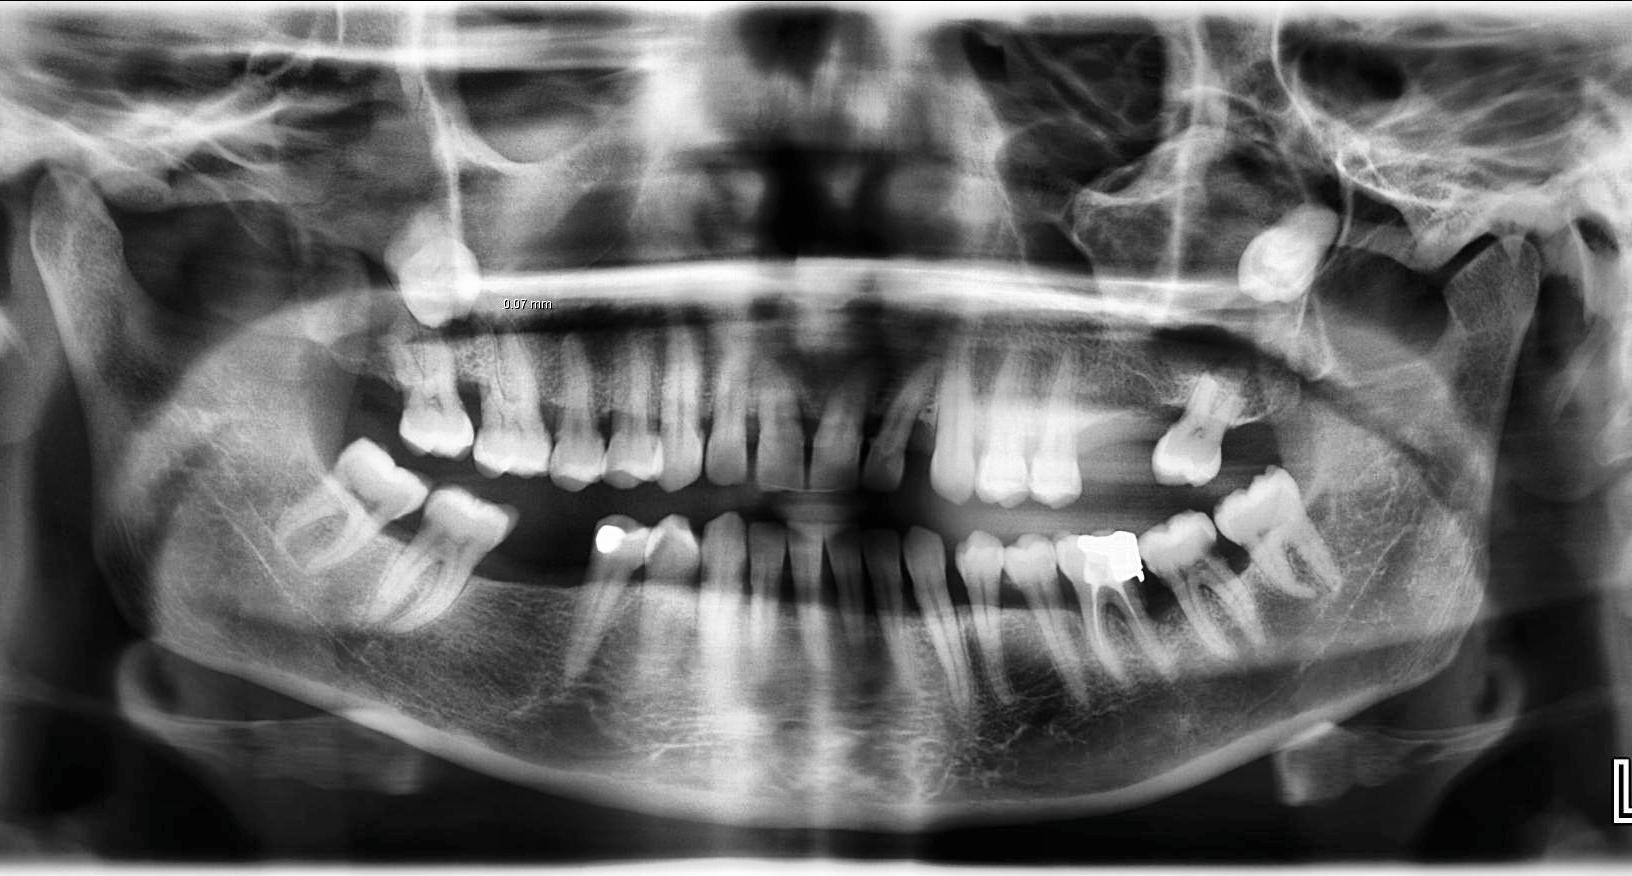keratokist: (1075, 128, 1355, 394), (273, 97, 458, 360)
